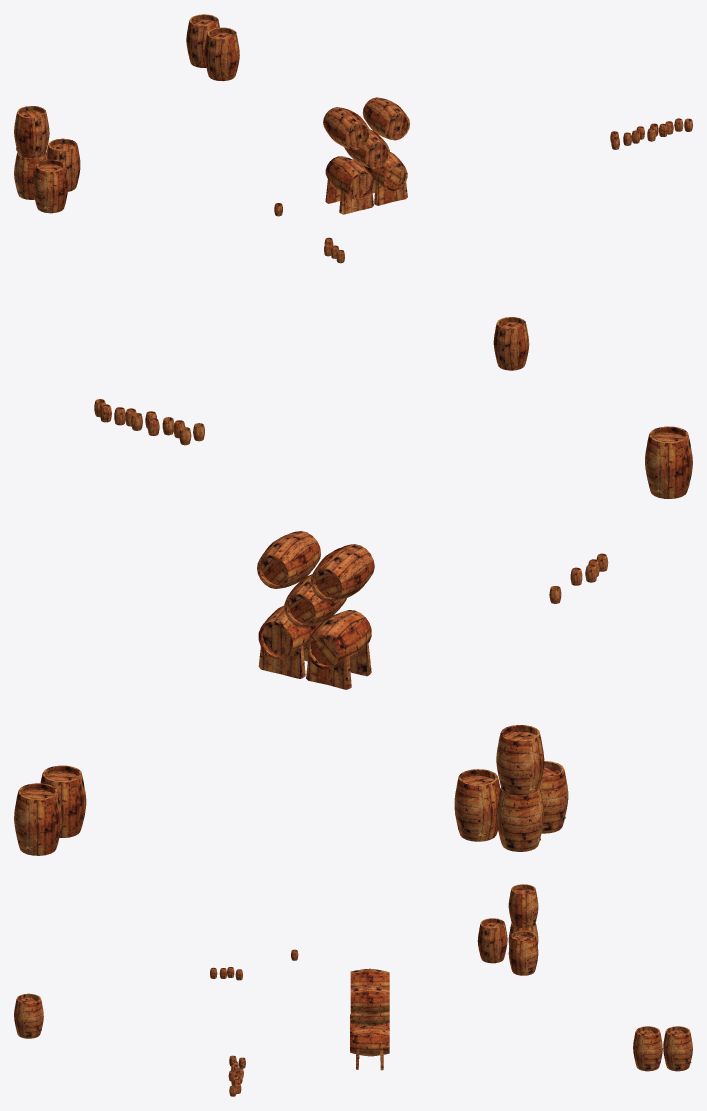
The model's file is tavern_175.gltf.
The picture shows the model from 3 angles, top to bottom: view 1: azimuth 30°, elevation 25°; view 2: azimuth 150°, elevation 25°; view 3: azimuth 270°, elevation 25°; orthographic projection. The views are drawn at different scales.
Visible parts, largest first — view 1: Box123_Material #170_0.021; view 2: Box123_Material #170_0.021; view 3: Box123_Material #170_0.021.
Part boxes in pixels (box(x1,y1,x2,y2)): Box123_Material #170_0.021: box(14, 14, 692, 370); Box123_Material #170_0.021: box(14, 399, 692, 855); Box123_Material #170_0.021: box(14, 884, 692, 1096).
Size of the model in its own units: 142 by 25.47 by 198.
